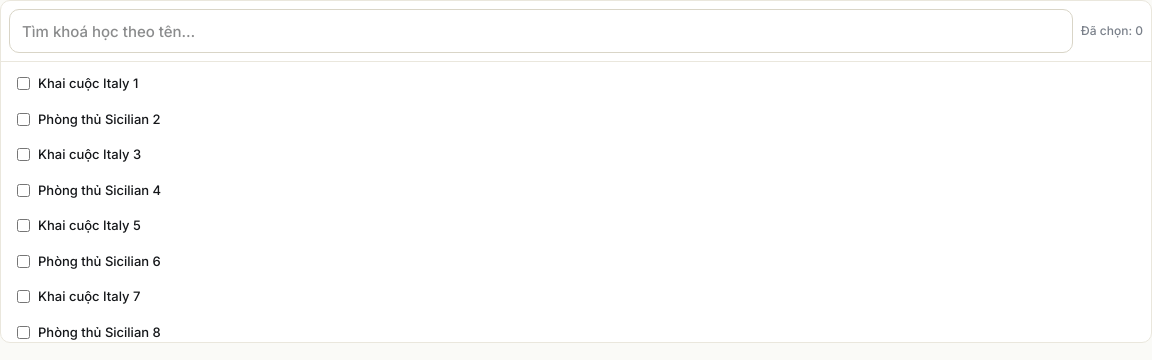
Test: CourseMultiSelect › handles >100 courses by virtualising or capping the rendered list, and the search still works
The image size is (1152, 360).
Type "Italy 99" into the search field with test id "course-multi-select-search" at (541, 31), box x1=9 y1=9 x2=1073 y2=53
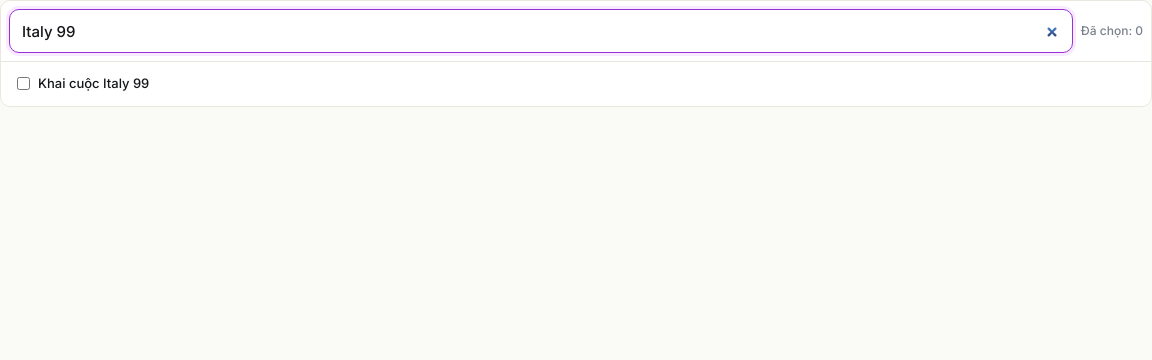
Now the option with test id "course-multi-select-option-c-99" is shown, box x1=17 y1=75 x2=149 y2=91
